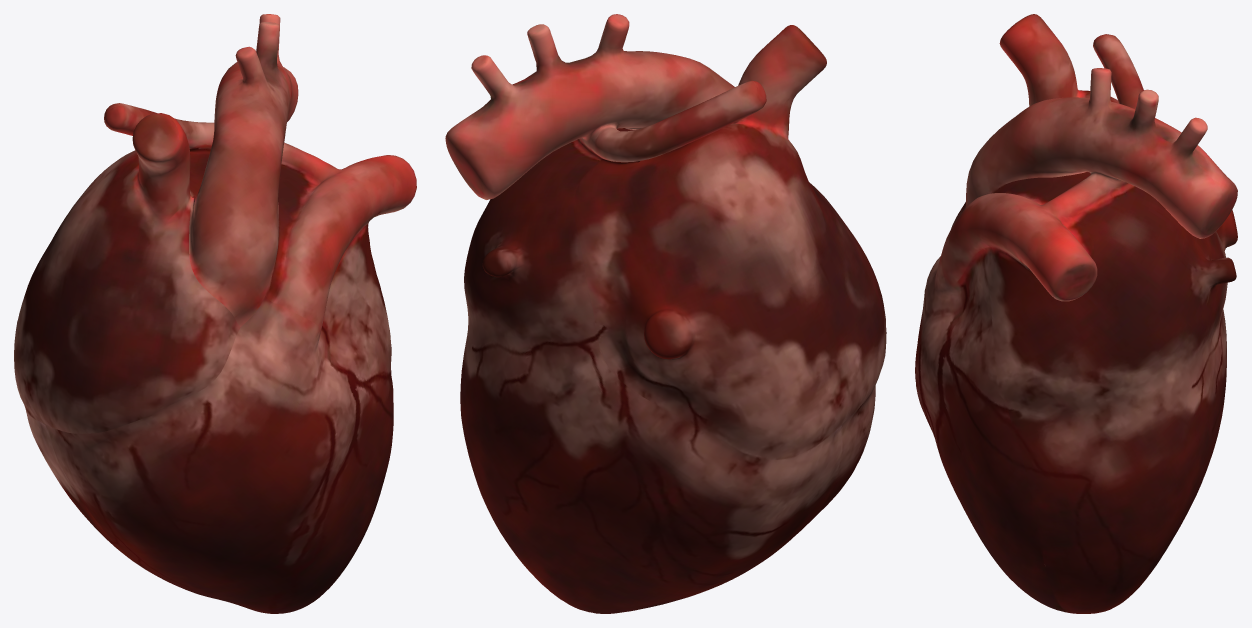
File: heart.glb
3 views of the same model, side by side, from view 1: azimuth 30°, elevation 25°; view 2: azimuth 150°, elevation 25°; view 3: azimuth 270°, elevation 25° (orthographic). The views are drawn at different scales.
Parts seen in each view (by area): view 1: hartZBrush_defualt_group; view 2: hartZBrush_defualt_group; view 3: hartZBrush_defualt_group.
Boxes of the visible parts, x1=… form: hartZBrush_defualt_group: x1=14, y1=14, x2=416, y2=613; hartZBrush_defualt_group: x1=445, y1=14, x2=886, y2=613; hartZBrush_defualt_group: x1=915, y1=14, x2=1237, y2=613.
Bounding box in the file's own units: 1.08 × 1.6 × 0.8802.
Materials: 1 (1 with a texture image).
